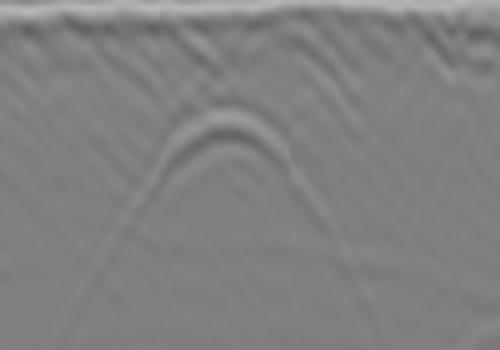hyperbola: (132, 96, 315, 215)
